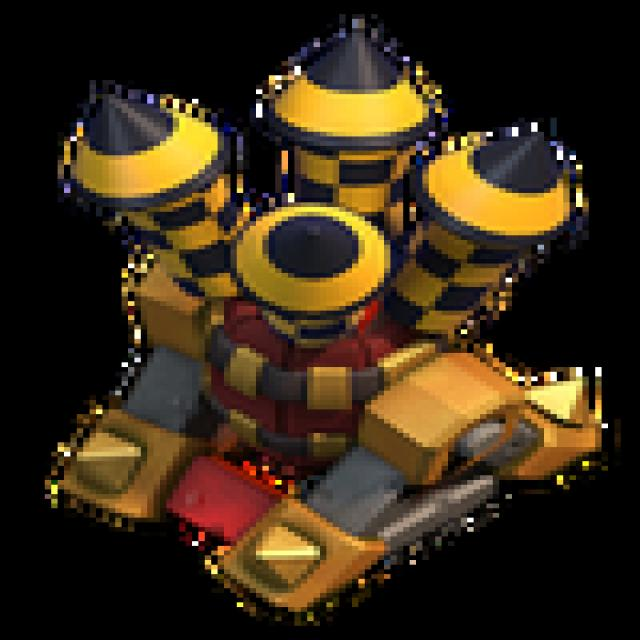air_defense: (19, 0, 621, 626)
